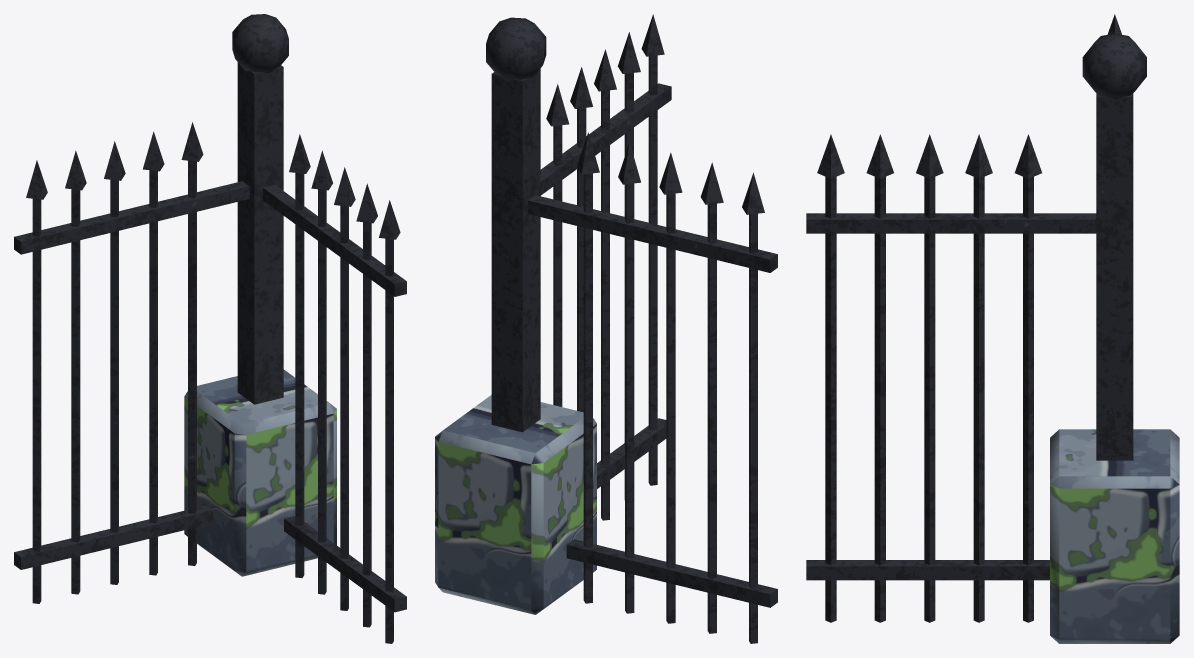
File: iron_fence_corner.glb
The picture shows the model from 3 angles, left to right: view 1: azimuth 30°, elevation 25°; view 2: azimuth 150°, elevation 25°; view 3: azimuth 270°, elevation 25°; orthographic projection. The views are drawn at different scales.
Parts seen in each view (by area): view 1: Fence; view 2: Fence; view 3: Fence.
Part boxes in pixels (x1,y1,x2,y2): Fence: (14,14,406,643); Fence: (435,14,777,643); Fence: (806,14,1179,643).
Size of the model in its own units: 1.21 by 2.09 by 1.21.
2 materials, 2 textured.
